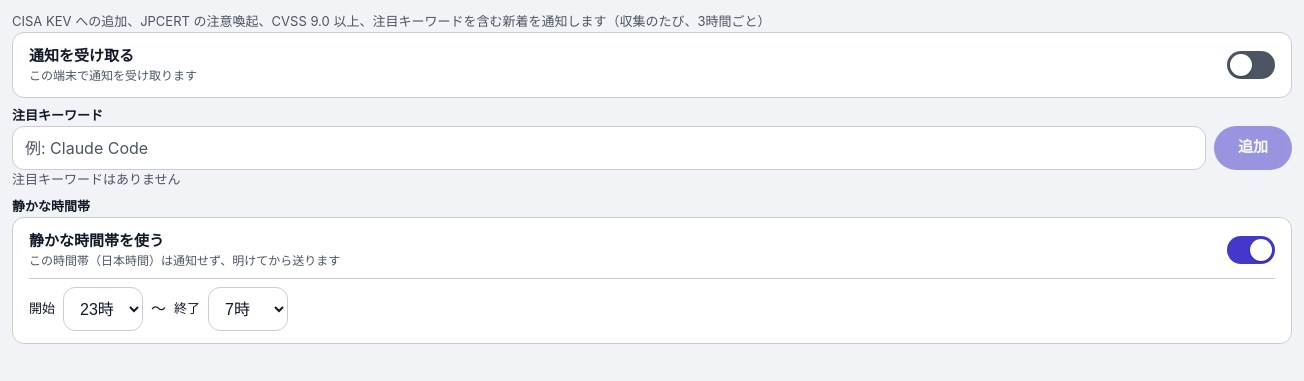
Test: NotificationSettings › 購読に失敗したら理由を表示する
Click the switch labelled "通知を受け取る" at (1251, 65), box 1227,51 -> 1275,79
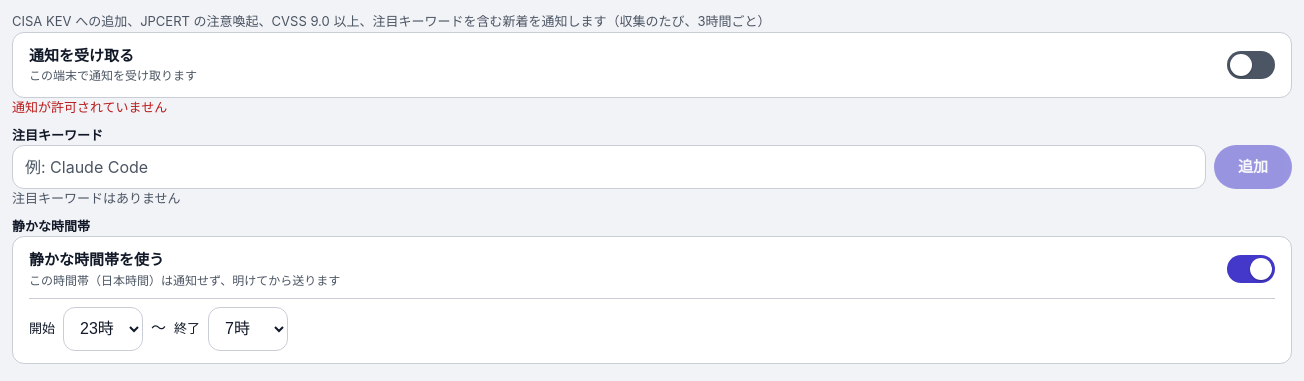
Result: the message reads "通知が許可されていません" at 12,99 -> 167,115
